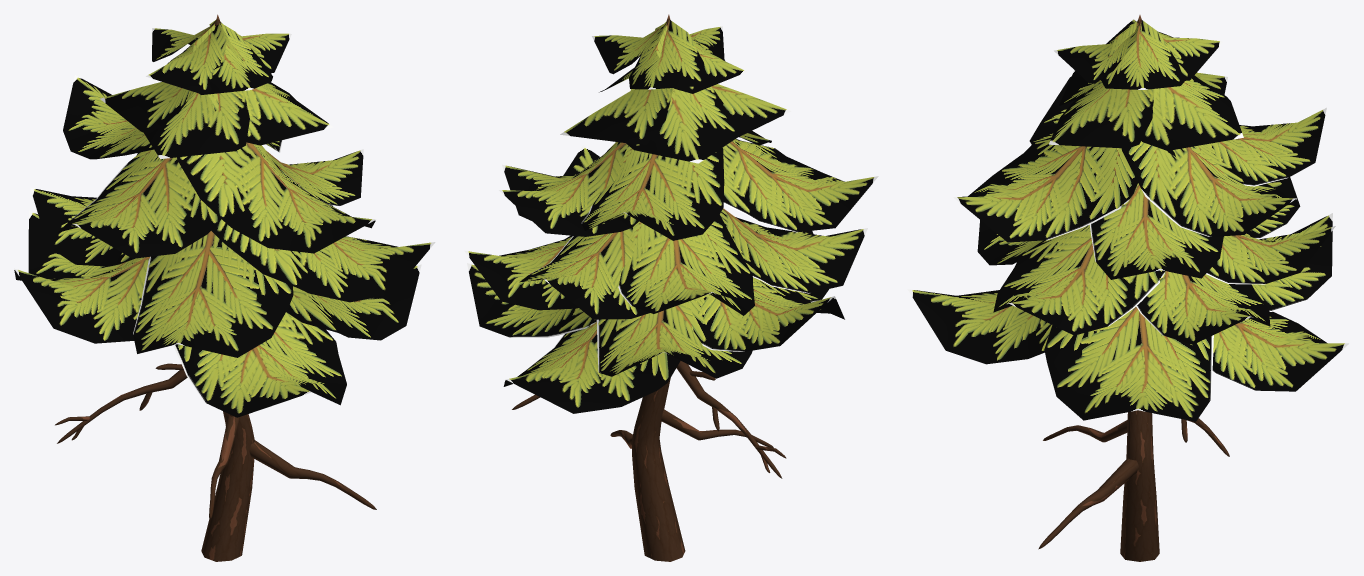
Rendered from PineTree_3.glb.
The picture shows the model from 3 angles, left to right: view 1: azimuth 30°, elevation 25°; view 2: azimuth 150°, elevation 25°; view 3: azimuth 270°, elevation 25°; orthographic projection.
Visible parts, largest first — view 1: PineTree_3; view 2: PineTree_3; view 3: PineTree_3.
Boxes of the visible parts, box(x1,y1,x2,y2) form: PineTree_3: box(14, 14, 435, 561); PineTree_3: box(464, 14, 878, 561); PineTree_3: box(907, 15, 1348, 561).
Bounding box in the file's own units: 1.76 × 2.35 × 1.75.
2 materials, 2 textured.
